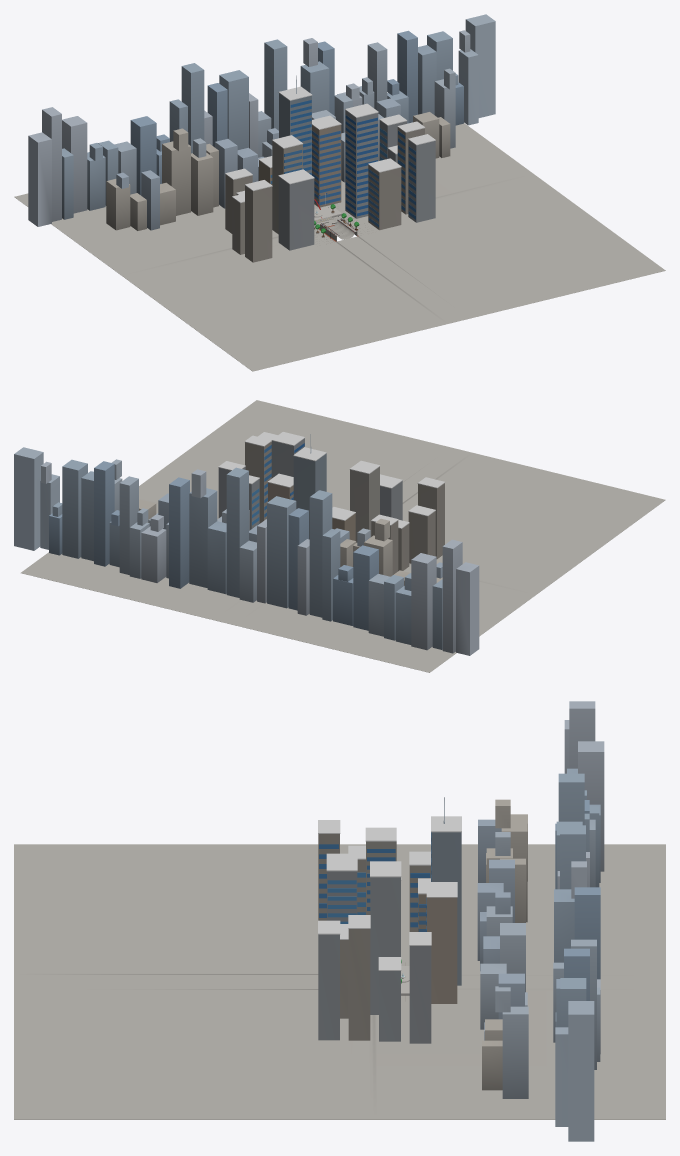
File: venue-plaza-CN8-xxYk.glb
3 views of the same model, one above another, from view 1: azimuth 30°, elevation 25°; view 2: azimuth 150°, elevation 25°; view 3: azimuth 270°, elevation 25° (orthographic). The views are drawn at different scales.
Parts seen in each view (by area): view 1: arena; view 2: arena; view 3: arena.
Part boxes in pixels (bbox=[...]): arena: bbox=[14, 14, 665, 371]; arena: bbox=[14, 400, 665, 672]; arena: bbox=[14, 701, 665, 1141].
Size of the model in its own units: 333 by 92.11 by 300.
